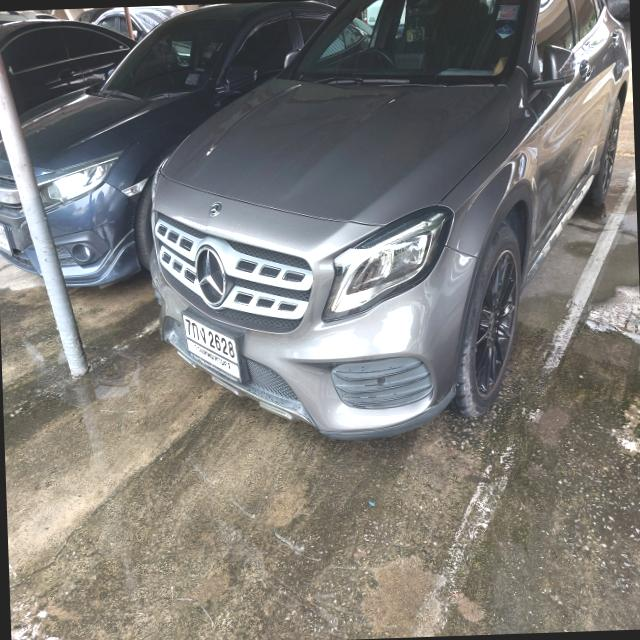license_plate: (180, 303, 252, 397)
